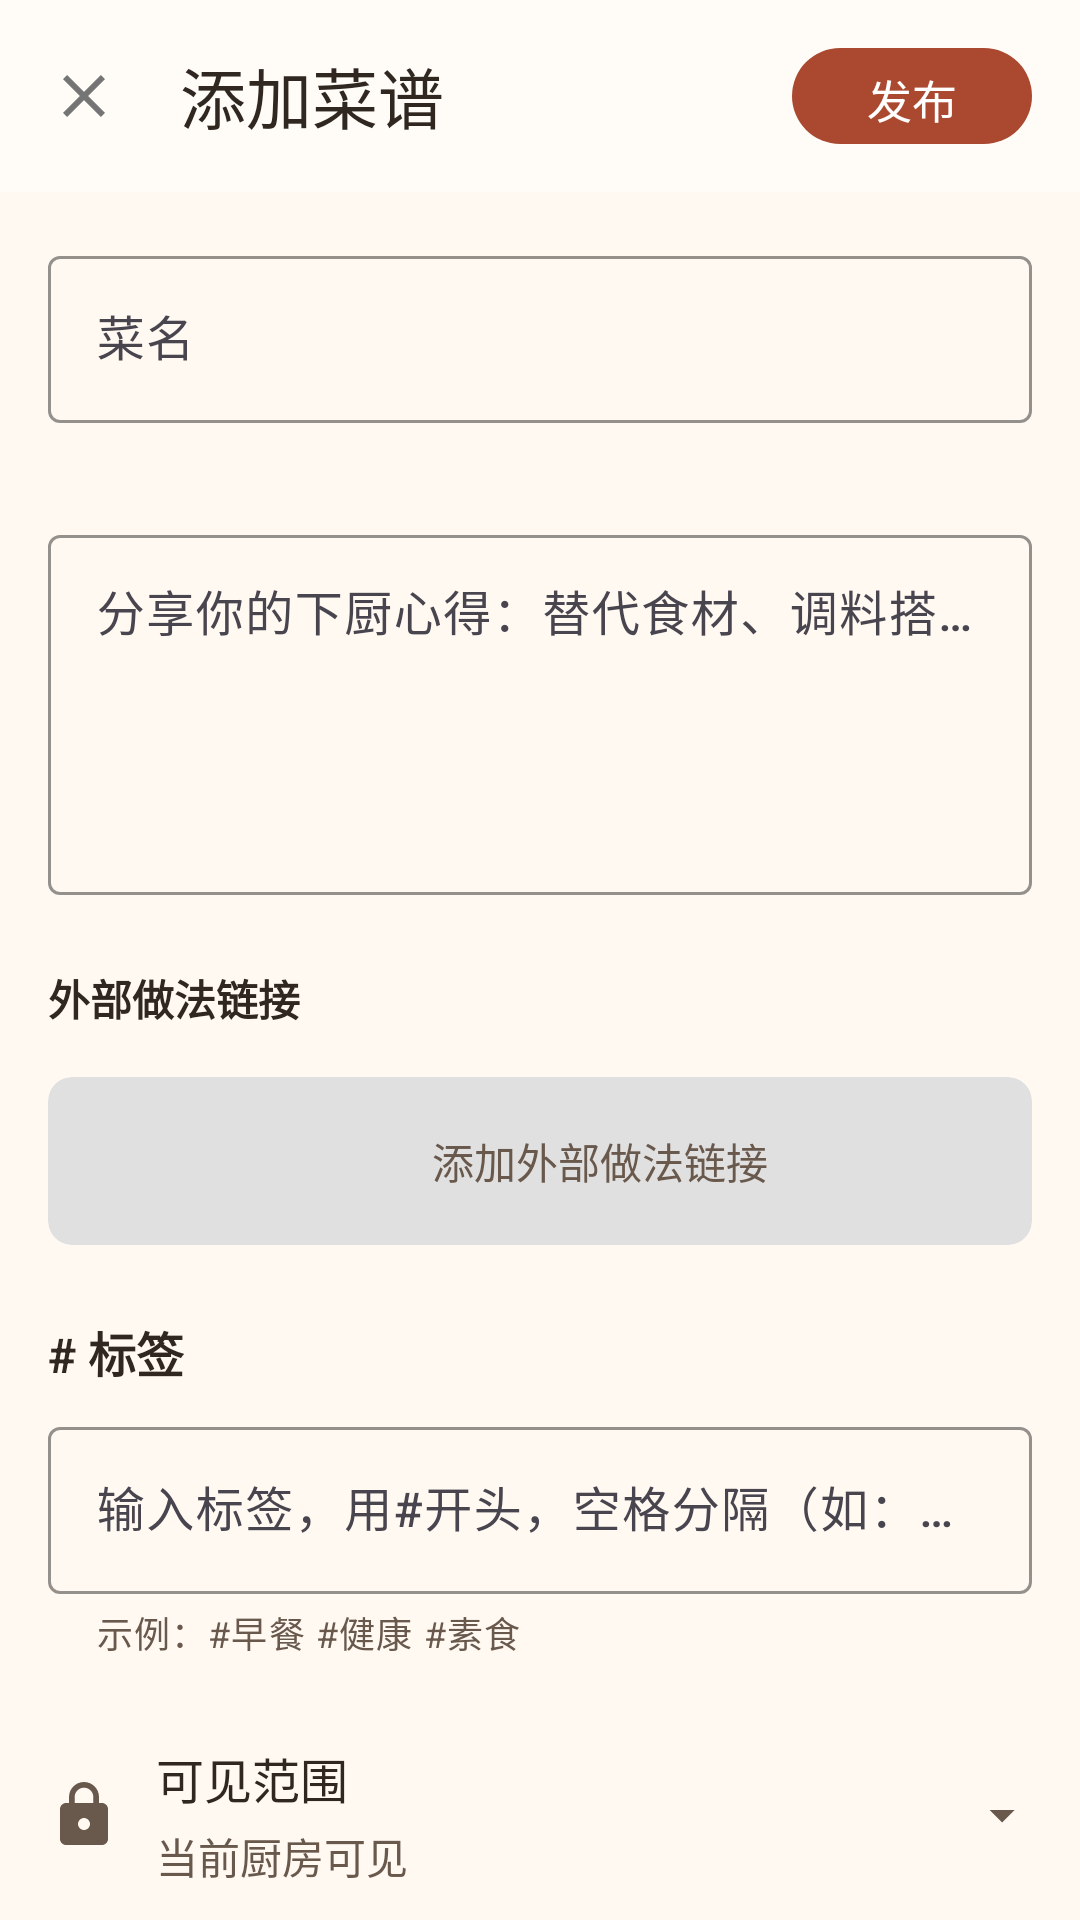

Icon click points for this 1080×1920 phone screenshot, format (x,y):
展开: (1002,1816)
权限: (84,1813)
